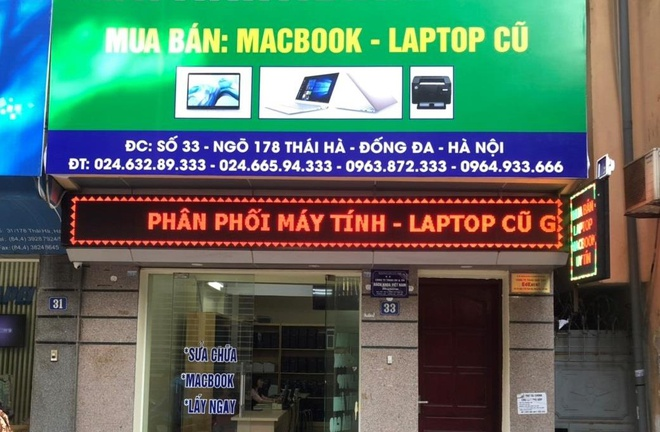banner: (52, 1, 591, 174)
